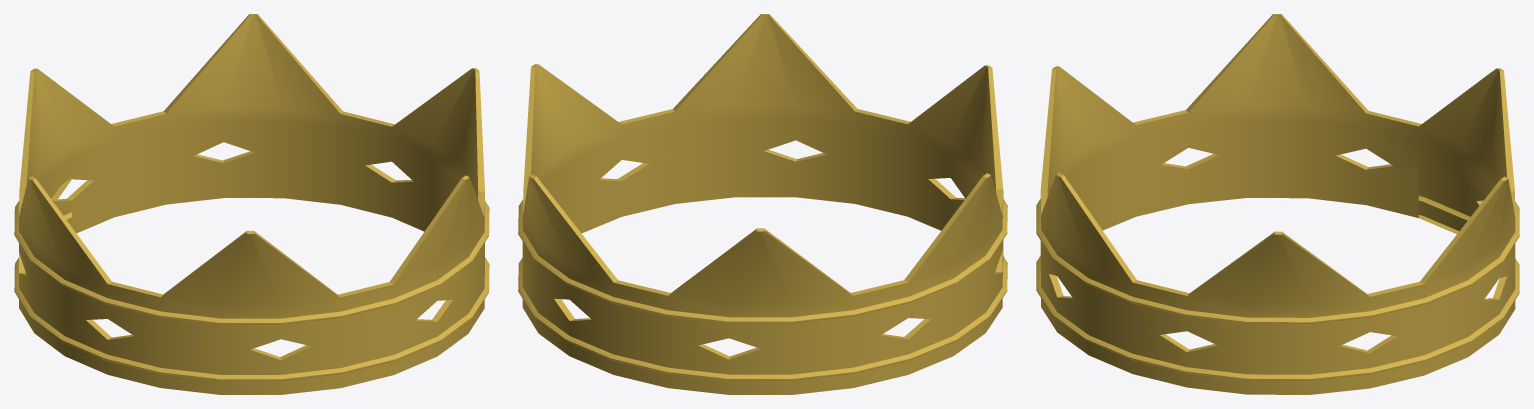
File: crown.glb
3 views of the same model, side by side, from view 1: azimuth 30°, elevation 25°; view 2: azimuth 150°, elevation 25°; view 3: azimuth 270°, elevation 25° (orthographic).
Visible parts, largest first — view 1: Circle; view 2: Circle; view 3: Circle.
Part boxes in pixels (box(x1,y1,x2,y2)): Circle: box(14, 14, 489, 394); Circle: box(518, 14, 1007, 394); Circle: box(1036, 14, 1519, 394).
Bounding box in the file's own units: 0.6389 × 0.2332 × 0.5913.
